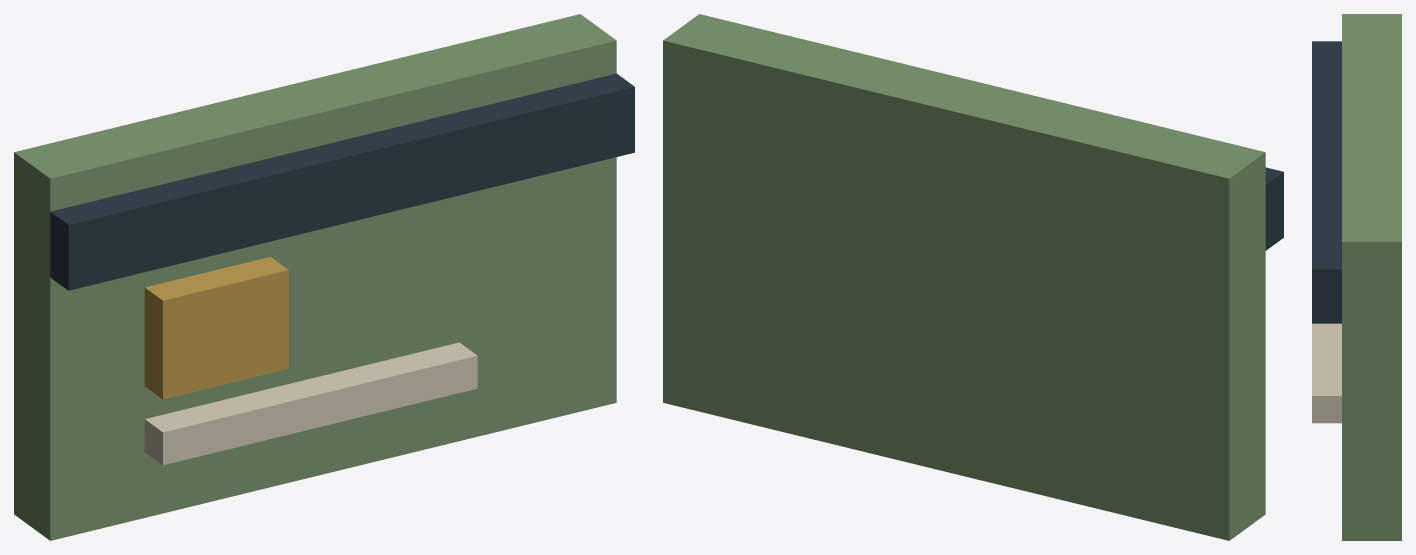
The model's file is gardening-11.glb.
3 renders of one model, left to right at view 1: azimuth 30°, elevation 25°; view 2: azimuth 150°, elevation 25°; view 3: azimuth 270°, elevation 25°, orthographic. The views are drawn at different scales.
Visible parts, largest first — view 1: Seed packets; view 2: Seed packets; view 3: Seed packets.
Boxes of the visible parts, <box> form: Seed packets: <box>14,14,634,540</box>; Seed packets: <box>663,14,1283,540</box>; Seed packets: <box>1312,14,1401,540</box>.
Size of the model in its own units: 1.44 by 0.88 by 0.24.
